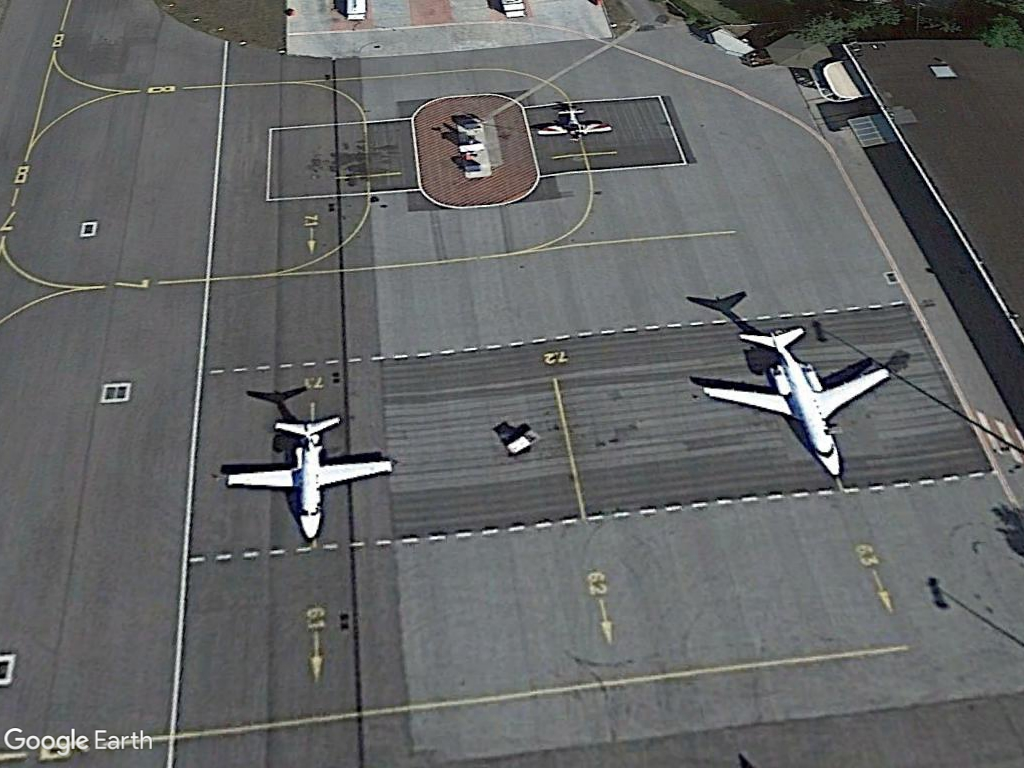chartered: (697, 324, 897, 483), (223, 404, 399, 548)
